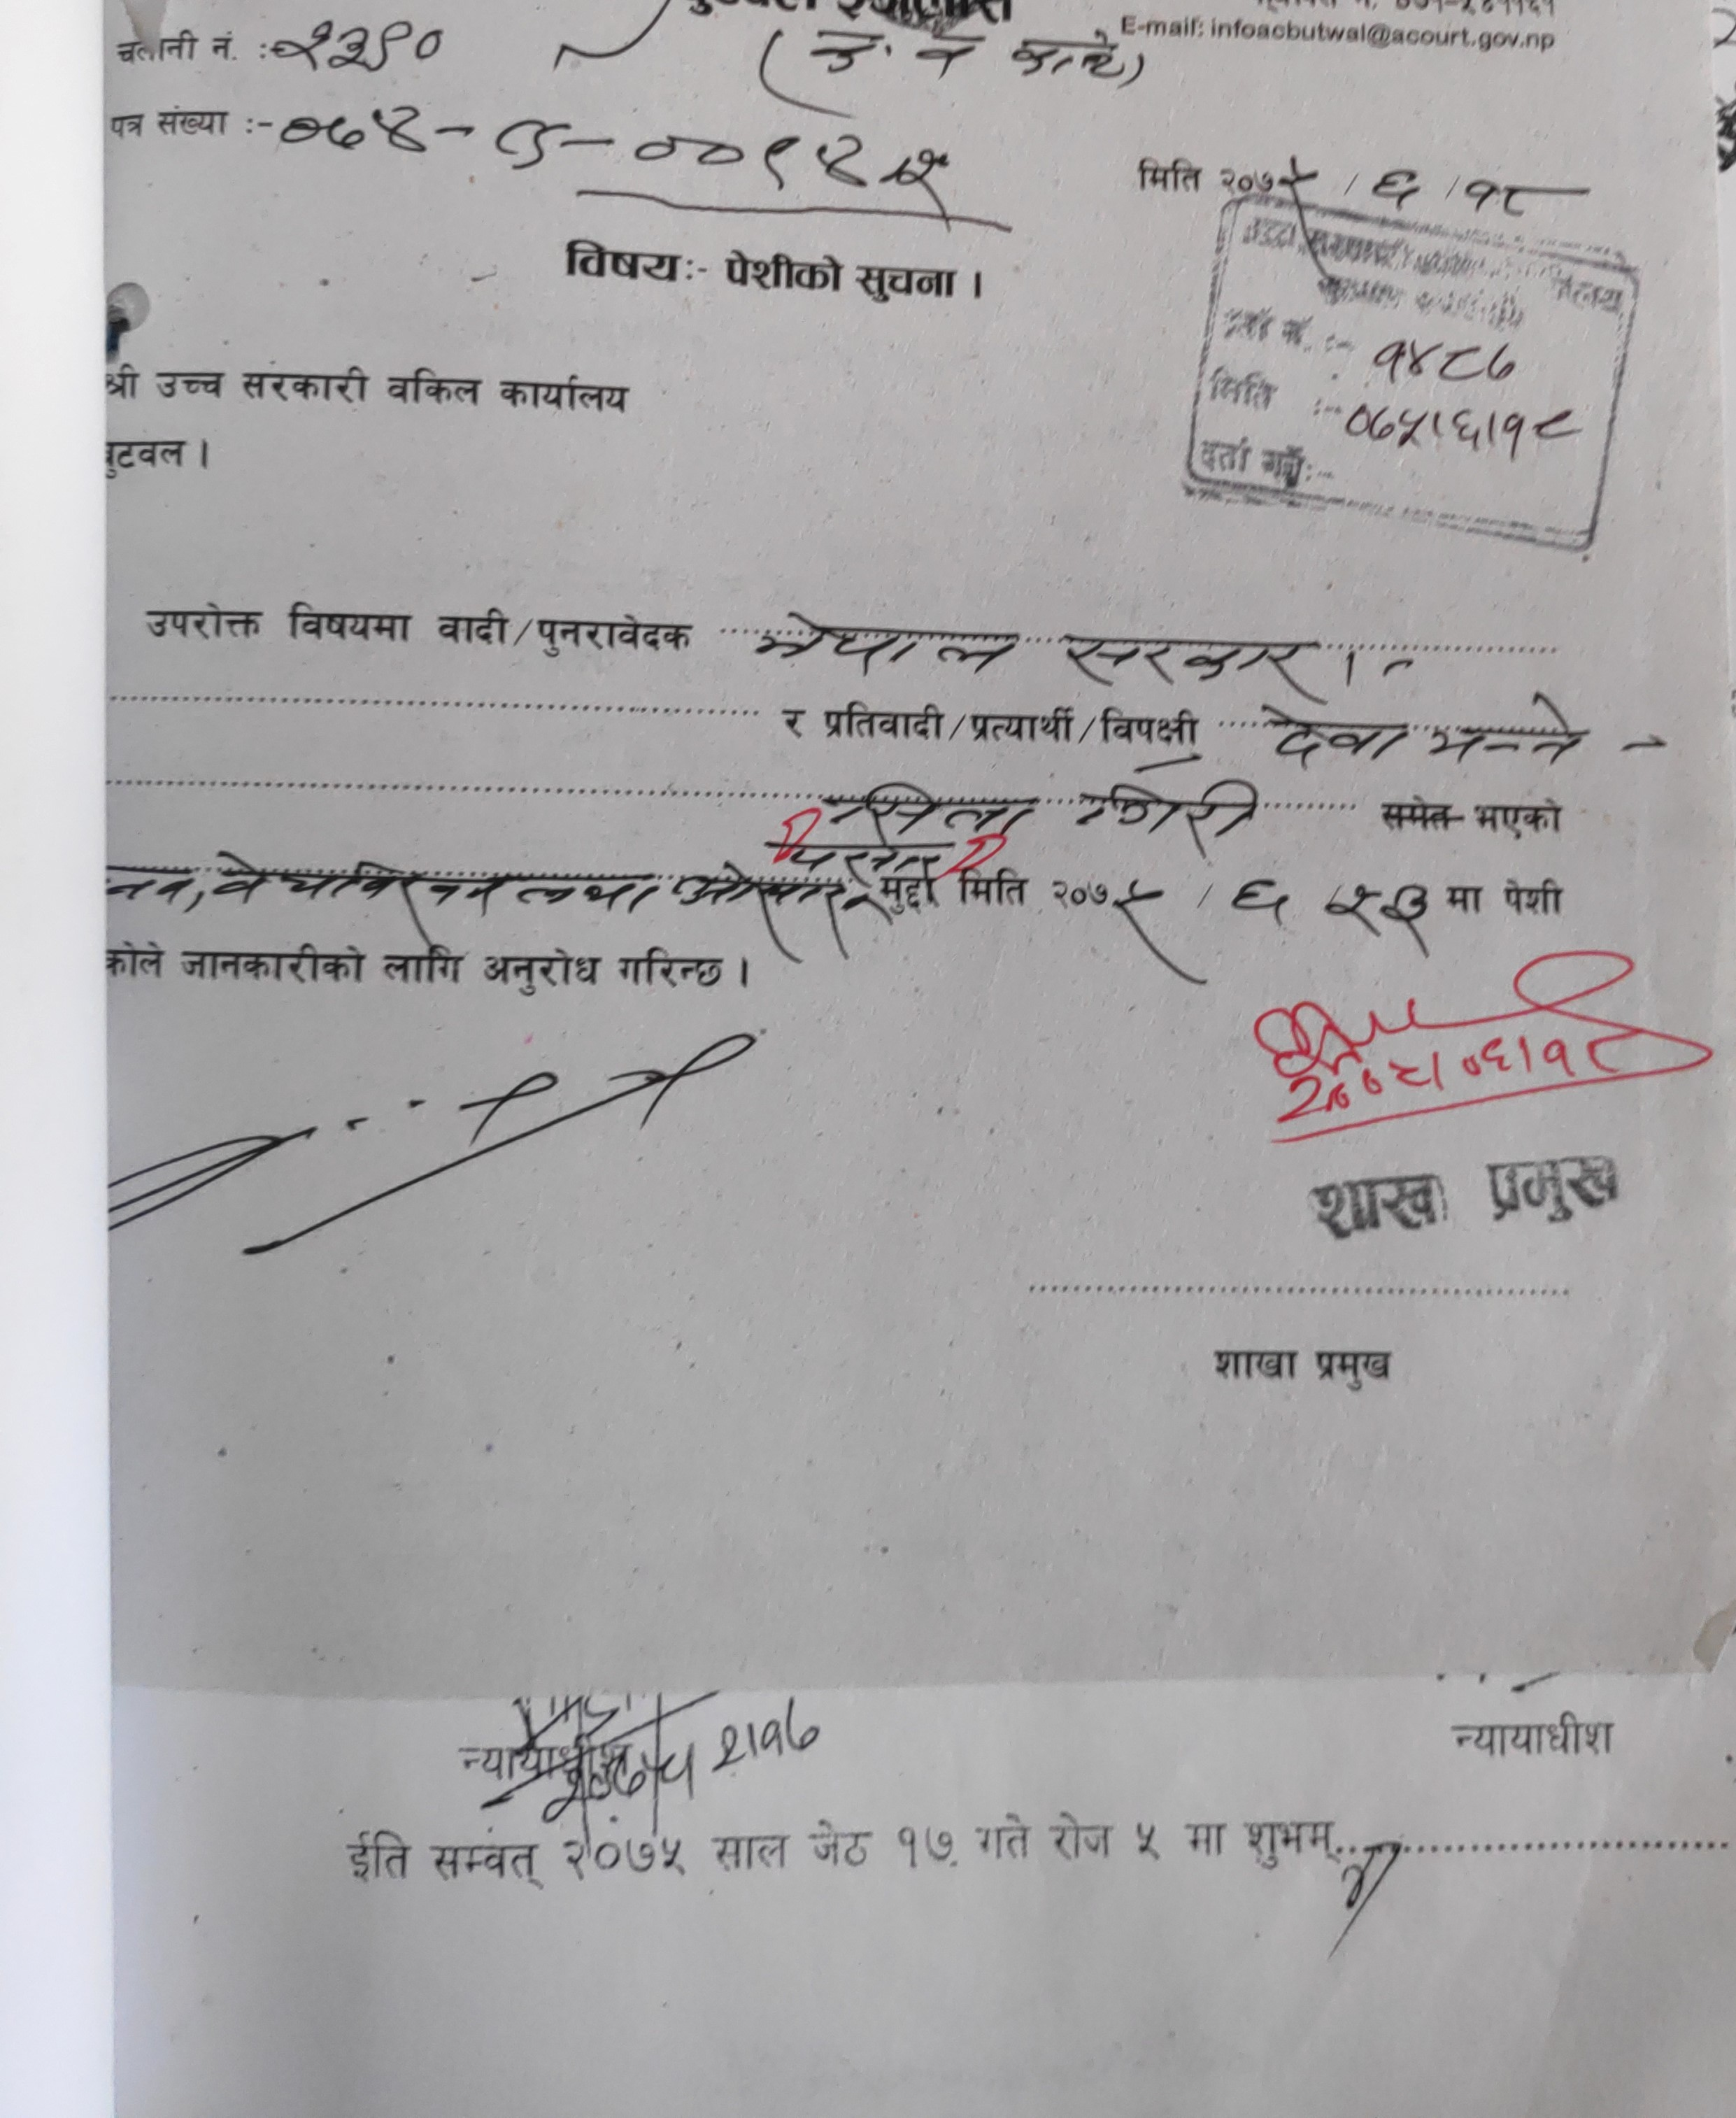text: (276, 91, 952, 222), (748, 19, 1154, 100), (204, 839, 503, 943), (746, 602, 1022, 683), (1055, 623, 1326, 700), (670, 860, 851, 948), (1344, 396, 1579, 463), (1075, 772, 1265, 848), (1421, 688, 1592, 771), (830, 776, 1036, 839), (266, 14, 450, 79), (1258, 698, 1416, 771), (1367, 329, 1527, 396), (510, 860, 667, 924)
